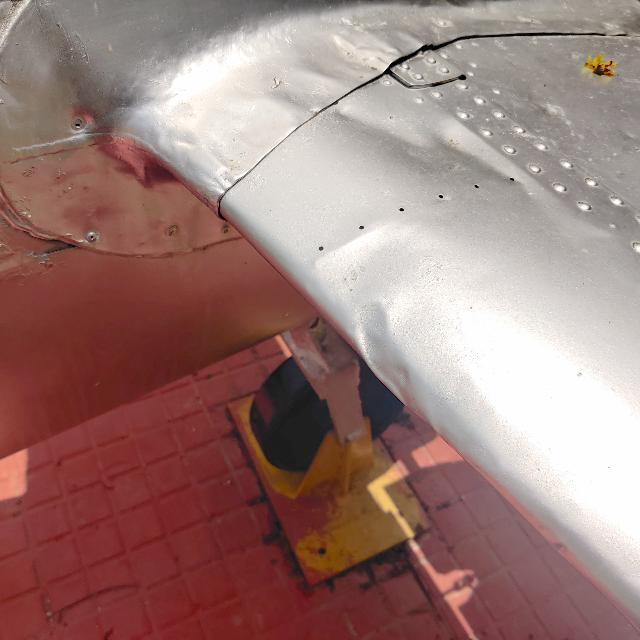dent: (324, 94, 534, 202), (343, 286, 432, 416)
